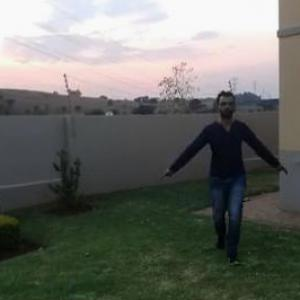land: (163, 96, 273, 236)
